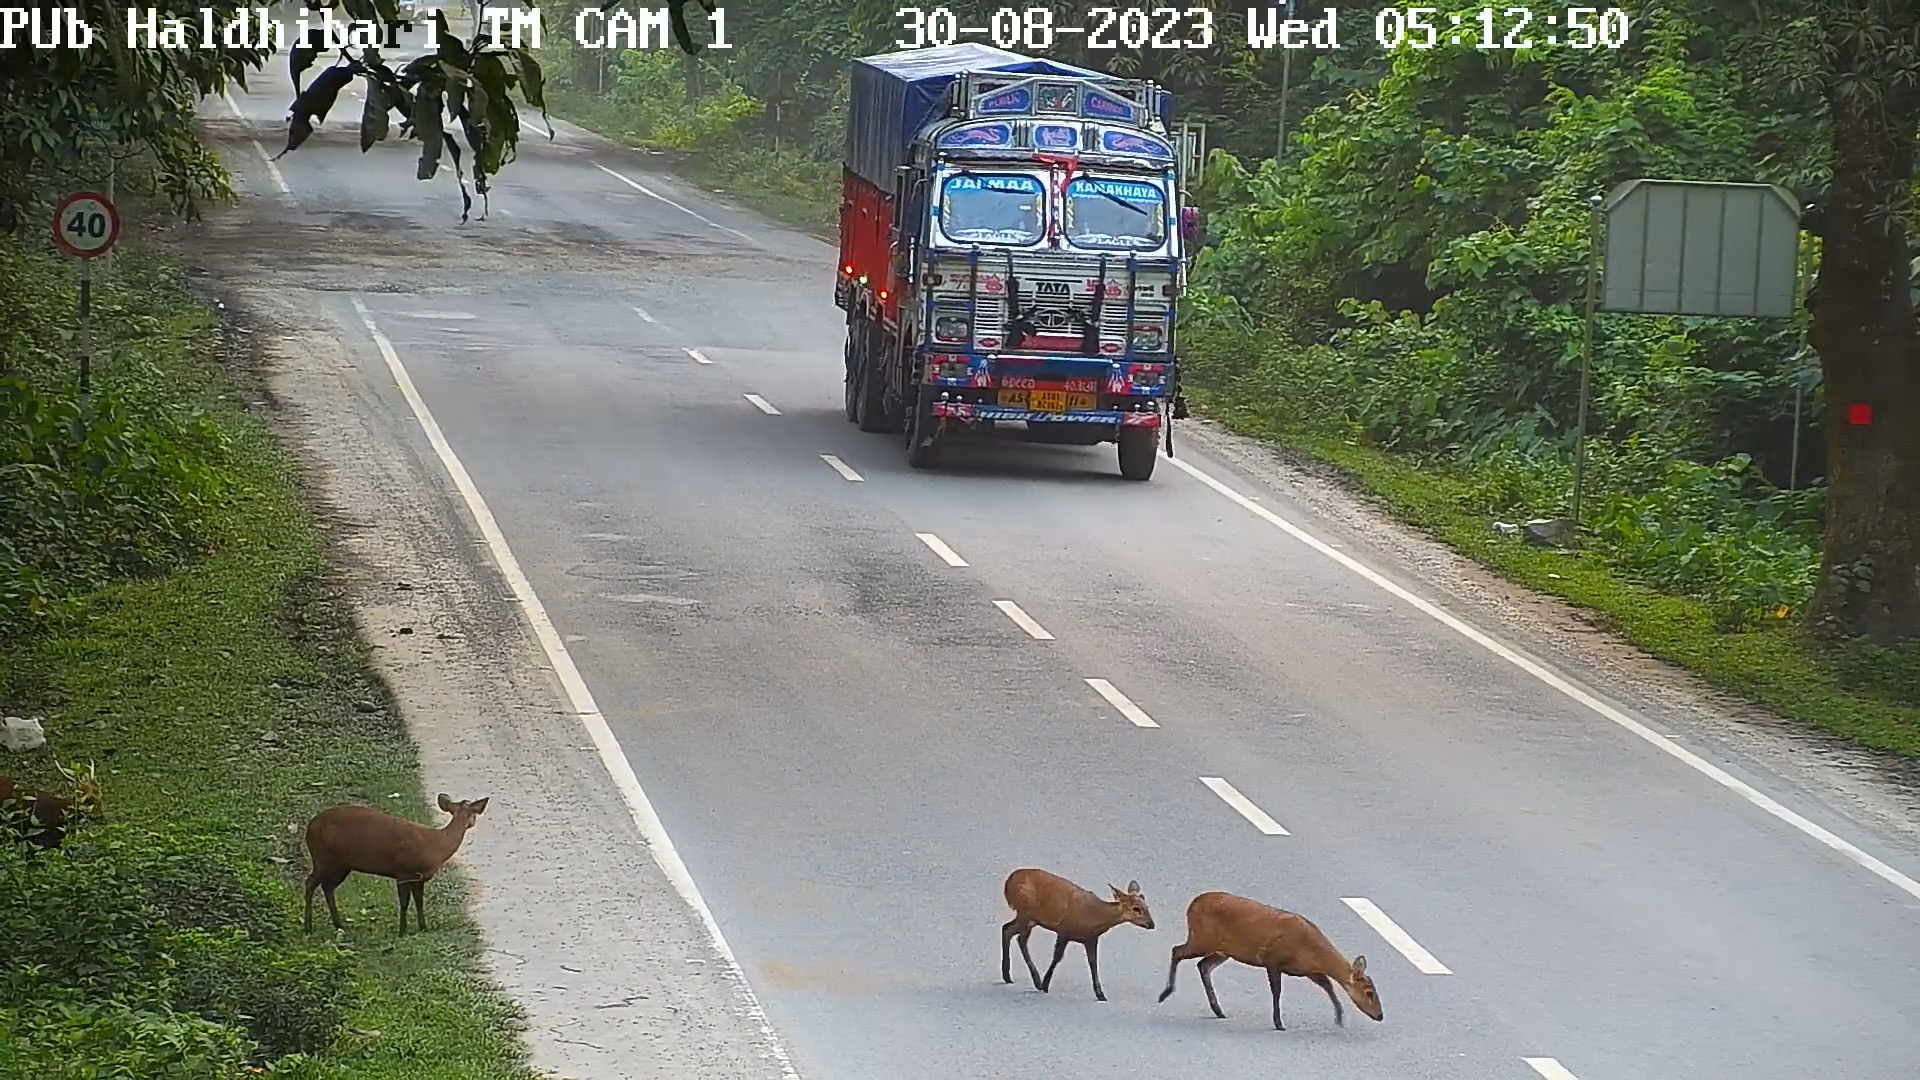deers: (1156, 845, 1395, 1036), (297, 771, 488, 939), (997, 843, 1154, 1013), (4, 753, 104, 870)
